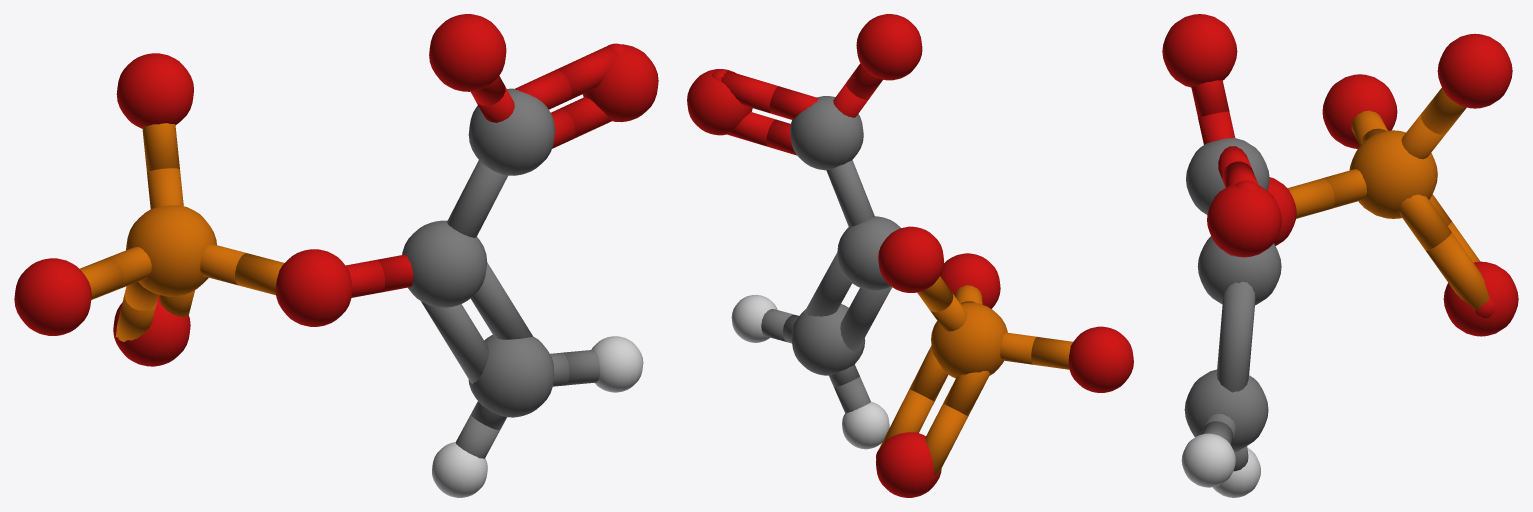
File: phosphoenolpyruvate.obj
3 views of the same model, side by side, from view 1: azimuth 30°, elevation 25°; view 2: azimuth 150°, elevation 25°; view 3: azimuth 270°, elevation 25° (orthographic). The views are drawn at different scales.
Visible parts, largest first — view 1: ShapeSphere_ShapeSphere.001, ShapeSphere.007_ShapeSphere.003, ShapeSphere.009_ShapeSphere.003, ShapeSphere.008_ShapeSphere.003, ShapeSphere.002, ShapeSphere.005_ShapeSphere.002, ShapeSphere.001_ShapeSphere.002, ShapeSphere.003_ShapeSphere.002, ShapeSphere.006_ShapeSphere.002, ShapeSphere.004_ShapeSphere.002, ShapeCylinder.003_ShapeCylinder.001, ShapeCylinder.004_ShapeCylinder.002 (+17 smaller); view 2: ShapeSphere_ShapeSphere.001, ShapeSphere.008_ShapeSphere.003, ShapeSphere.005_ShapeSphere.002, ShapeSphere.003_ShapeSphere.002, ShapeSphere.002, ShapeSphere.009_ShapeSphere.003, ShapeSphere.004_ShapeSphere.002, ShapeSphere.007_ShapeSphere.003, ShapeSphere.006_ShapeSphere.002, ShapeSphere.001_ShapeSphere.002, ShapeCylinder.004_ShapeCylinder.002, ShapeCylinder.003_ShapeCylinder.001 (+19 smaller); view 3: ShapeSphere_ShapeSphere.001, ShapeSphere.003_ShapeSphere.002, ShapeSphere.006_ShapeSphere.002, ShapeSphere.005_ShapeSphere.002, ShapeSphere.009_ShapeSphere.003, ShapeSphere.002, ShapeSphere.007_ShapeSphere.003, ShapeCylinder.002_ShapeCylinder.001, ShapeSphere.004_ShapeSphere.002, ShapeSphere.008_ShapeSphere.003, ShapeSphere.011_ShapeSphere.004, Shape.006_ShapeCylinder.005 (+13 smaller).
Boxes of the visible parts, left/top/right/bottom form: ShapeSphere_ShapeSphere.001: left=126, top=205, right=216, bottom=296; ShapeSphere.007_ShapeSphere.003: left=402, top=220, right=487, bottom=307; ShapeSphere.009_ShapeSphere.003: left=468, top=334, right=554, bottom=417; ShapeSphere.008_ShapeSphere.003: left=468, top=88, right=555, bottom=175; ShapeSphere.002: left=14, top=258, right=91, bottom=335; ShapeSphere.005_ShapeSphere.002: left=429, top=14, right=506, bottom=91; ShapeSphere.001_ShapeSphere.002: left=275, top=249, right=352, bottom=326; ShapeSphere.003_ShapeSphere.002: left=116, top=53, right=193, bottom=128; ShapeSphere.006_ShapeSphere.002: left=582, top=44, right=658, bottom=122; ShapeSphere.004_ShapeSphere.002: left=113, top=295, right=190, bottom=366; ShapeCylinder.003_ShapeCylinder.001: left=421, top=301, right=488, bottom=383; ShapeCylinder.004_ShapeCylinder.002: left=447, top=160, right=507, bottom=237; ShapeSphere_ShapeSphere.001: left=931, top=302, right=1007, bottom=378; ShapeSphere.008_ShapeSphere.003: left=790, top=96, right=863, bottom=170; ShapeSphere.005_ShapeSphere.002: left=856, top=14, right=922, bottom=80; ShapeSphere.003_ShapeSphere.002: left=878, top=226, right=944, bottom=292; ShapeSphere.002: left=1068, top=326, right=1133, bottom=392; ShapeSphere.009_ShapeSphere.003: left=791, top=304, right=865, bottom=375; ShapeSphere.004_ShapeSphere.002: left=876, top=432, right=941, bottom=497; ShapeSphere.007_ShapeSphere.003: left=837, top=216, right=900, bottom=290; ShapeSphere.006_ShapeSphere.002: left=687, top=69, right=752, bottom=135; ShapeSphere.001_ShapeSphere.002: left=940, top=253, right=1000, bottom=308; ShapeCylinder.004_ShapeCylinder.002: left=826, top=160, right=874, bottom=226; ShapeCylinder.003_ShapeCylinder.001: left=840, top=286, right=892, bottom=351; ShapeSphere_ShapeSphere.001: left=1349, top=130, right=1437, bottom=218; ShapeSphere.003_ShapeSphere.002: left=1437, top=33, right=1512, bottom=108; ShapeSphere.006_ShapeSphere.002: left=1207, top=184, right=1281, bottom=257; ShapeSphere.005_ShapeSphere.002: left=1162, top=14, right=1237, bottom=87; ShapeSphere.009_ShapeSphere.003: left=1184, top=369, right=1268, bottom=450; ShapeSphere.002: left=1322, top=74, right=1397, bottom=148; ShapeSphere.007_ShapeSphere.003: left=1197, top=236, right=1281, bottom=305; ShapeCylinder.002_ShapeCylinder.001: left=1216, top=281, right=1255, bottom=392; ShapeSphere.004_ShapeSphere.002: left=1443, top=261, right=1518, bottom=336; ShapeSphere.008_ShapeSphere.003: left=1186, top=137, right=1269, bottom=214; ShapeSphere.011_ShapeSphere.004: left=1181, top=433, right=1235, bottom=487; Shape.006_ShapeCylinder.005: left=1426, top=232, right=1489, bottom=310.
Size of the model in its own units: 5.94 by 4.87 by 3.32.
